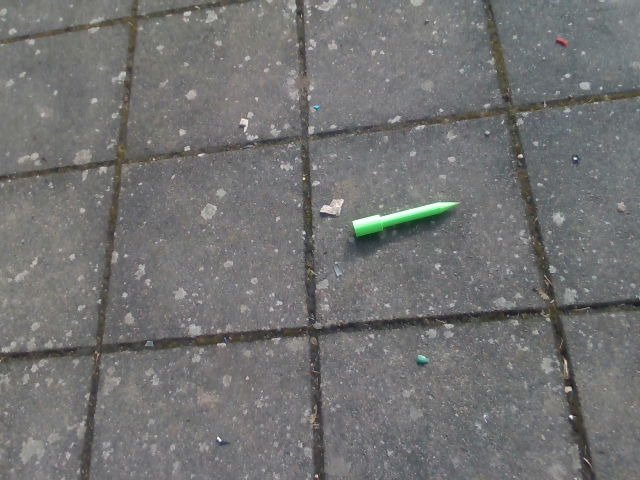Probe: (348, 196, 466, 240)
